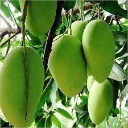mango: (1, 46, 45, 127)
